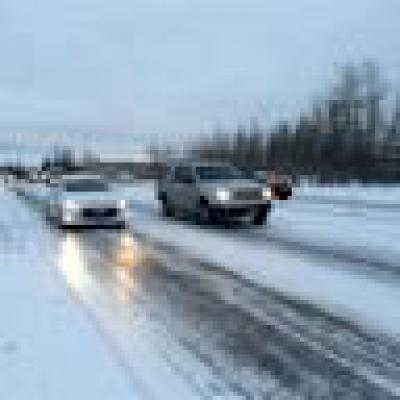iced-road: (79, 233, 400, 400), (271, 212, 400, 267)
